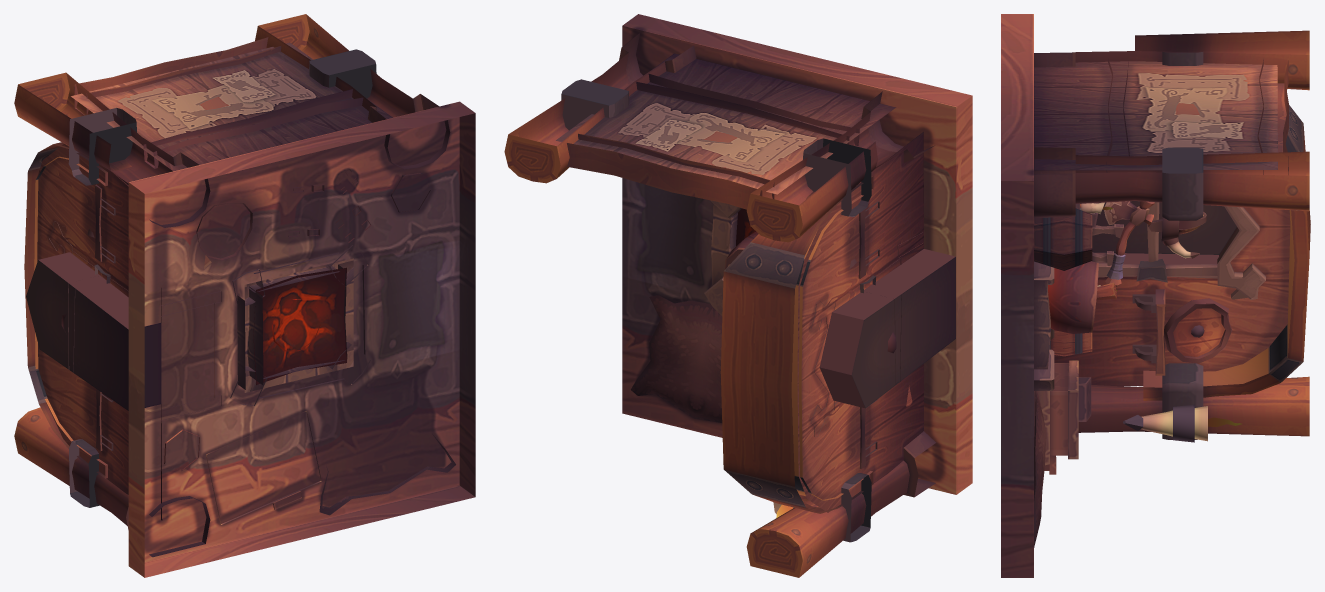
File: viking_room.glb
3 renders of one model, left to right at view 1: azimuth 30°, elevation 25°; view 2: azimuth 150°, elevation 25°; view 3: azimuth 270°, elevation 25°, orthographic. The views are drawn at different scales.
Parts seen in each view (by area): view 1: Viking Room; view 2: Viking Room; view 3: Viking Room.
Boxes of the visible parts, x1=… form: Viking Room: x1=14, y1=14, x2=475, y2=577; Viking Room: x1=504, y1=14, x2=972, y2=577; Viking Room: x1=1001, y1=14, x2=1310, y2=577.
Size of the model in its own units: 1.33 by 1.46 by 1.03.
Materials: 1 (1 with a texture image).
